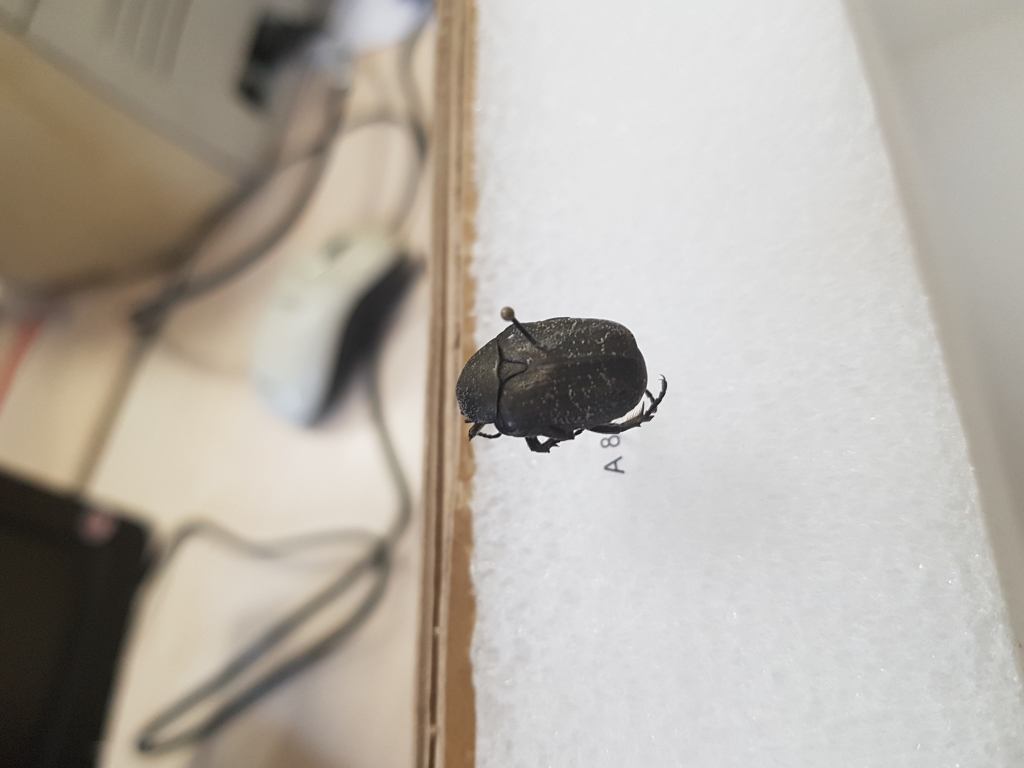Protaetia_asiatica: (449, 315, 674, 457)
